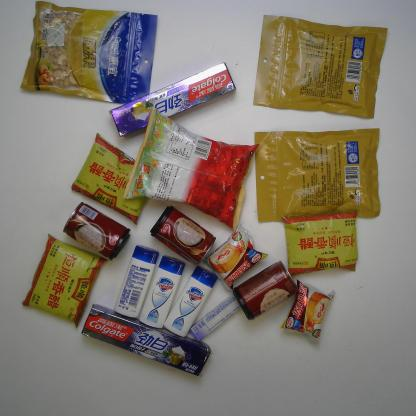Candy: (190, 293, 242, 342)
Canned Food: (149, 204, 216, 266), (232, 260, 300, 321), (63, 202, 131, 261)
Dessert: (203, 223, 269, 290), (280, 278, 336, 344)
Dried Fruit: (20, 0, 158, 106), (252, 14, 389, 119), (254, 127, 382, 223)
Personal Hygiene: (81, 303, 212, 377), (108, 62, 237, 137), (163, 264, 218, 337), (139, 255, 186, 329), (114, 244, 159, 318)
Puffed Food: (123, 106, 261, 232)
Seasoner: (21, 232, 108, 328), (70, 132, 154, 226), (281, 210, 358, 276)
